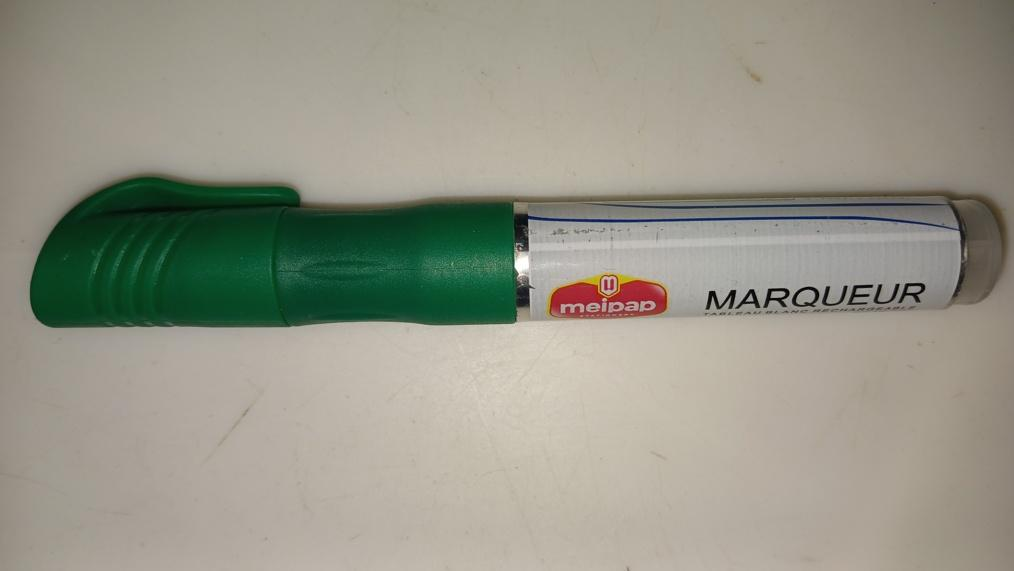Whiteboard marker: (31, 176, 1004, 330)
